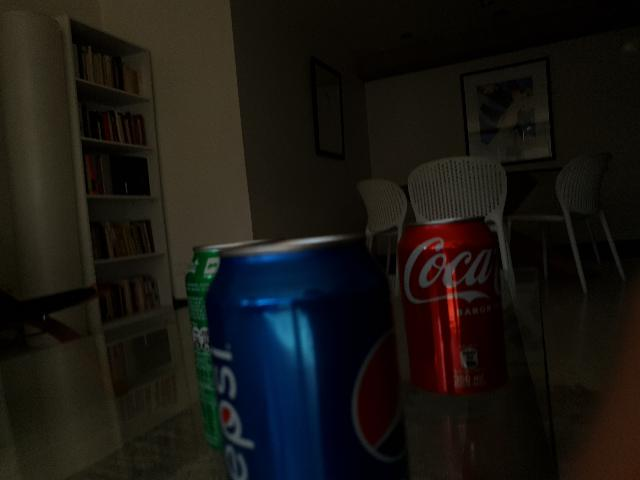coke: (394, 215, 512, 399)
pepsi: (214, 234, 400, 480)
sprite: (188, 236, 284, 480)
